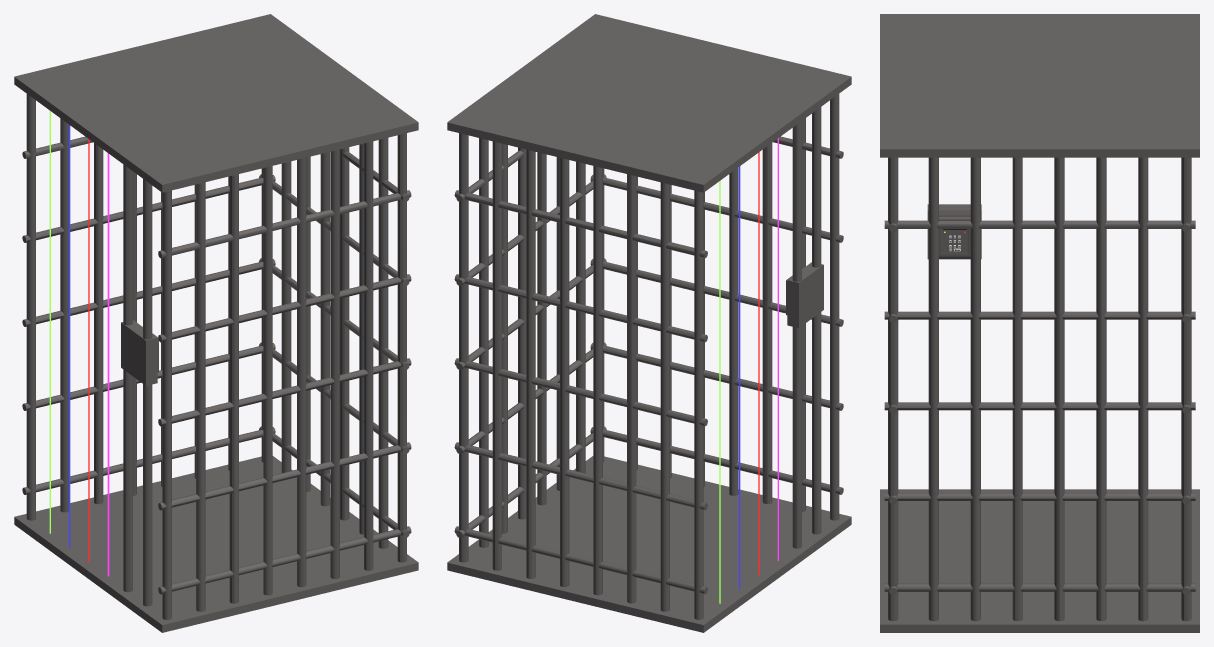
File: клетка.fbx
The picture shows the model from 3 angles, left to right: view 1: azimuth 30°, elevation 25°; view 2: azimuth 150°, elevation 25°; view 3: azimuth 270°, elevation 25°; orthographic projection. The views are drawn at different scales.
Visible parts, largest first — view 1: Cube.008, Cylinder.006, Cube.007, Cylinder.008, Cylinder.005, Cylinder.011, Cylinder.007, Cylinder.010, Plane.002, Cylinder.009, Cube; view 2: Cube.008, Cylinder.005, Cube.007, Cylinder.008, Cylinder.006, Cylinder.010, Cylinder.007, Cylinder.011, Cylinder.009, Plane.002, Cube; view 3: Cube.008, Cube.007, Cylinder.008, Cylinder.009, Cylinder.006, Cylinder.005, Cube.001, Cube.
Part boxes in pixels (x1=…): Cube.008: x1=14, y1=14, x2=418, y2=192; Cylinder.006: x1=162, y1=133, x2=406, y2=619; Cube.007: x1=14, y1=456, x2=418, y2=632; Cylinder.008: x1=281, y1=138, x2=388, y2=548; Cylinder.005: x1=26, y1=94, x2=263, y2=520; Cylinder.011: x1=158, y1=190, x2=411, y2=594; Cylinder.007: x1=123, y1=164, x2=152, y2=606; Cylinder.010: x1=22, y1=136, x2=275, y2=494; Plane.002: x1=49, y1=110, x2=109, y2=576; Cylinder.009: x1=259, y1=151, x2=409, y2=537; Cube: x1=121, y1=320, x2=157, y2=385; Cube.008: x1=447, y1=14, x2=851, y2=192; Cylinder.005: x1=459, y1=133, x2=703, y2=619; Cube.007: x1=447, y1=456, x2=851, y2=632; Cylinder.008: x1=479, y1=138, x2=585, y2=547; Cylinder.006: x1=603, y1=94, x2=839, y2=520; Cylinder.010: x1=454, y1=190, x2=707, y2=594; Cylinder.007: x1=792, y1=107, x2=821, y2=548; Cylinder.011: x1=590, y1=136, x2=843, y2=494; Cylinder.009: x1=456, y1=150, x2=606, y2=537; Plane.002: x1=719, y1=138, x2=778, y2=603; Cube: x1=787, y1=262, x2=823, y2=328; Cube.008: x1=880, y1=14, x2=1199, y2=157; Cube.007: x1=880, y1=489, x2=1199, y2=632; Cylinder.008: x1=928, y1=157, x2=1148, y2=621; Cylinder.009: x1=884, y1=220, x2=1195, y2=591; Cylinder.006: x1=888, y1=157, x2=898, y2=621; Cylinder.005: x1=1181, y1=157, x2=1191, y2=621; Cube.001: x1=939, y1=216, x2=970, y2=256; Cube: x1=927, y1=204, x2=981, y2=259.
Bounding box in the file's own units: 1185 × 1978 × 1185.
